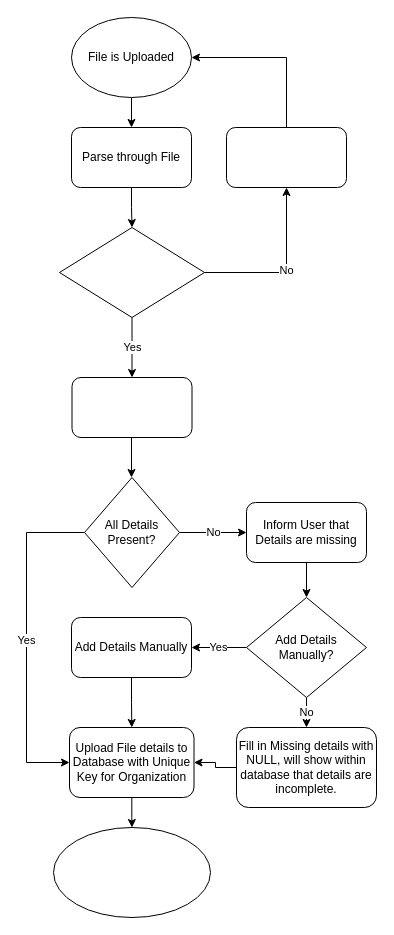
This 394x935 diagram has some shape labels left out. Each missing label, with the box of its shape:
Correct File Type?: (58, 226, 204, 318)
File Details have been taken and added to Database: (52, 826, 210, 918)
Inform user that File type is Incorrect, try again.: (226, 126, 346, 188)
Parse through File Details: (71, 376, 192, 438)
